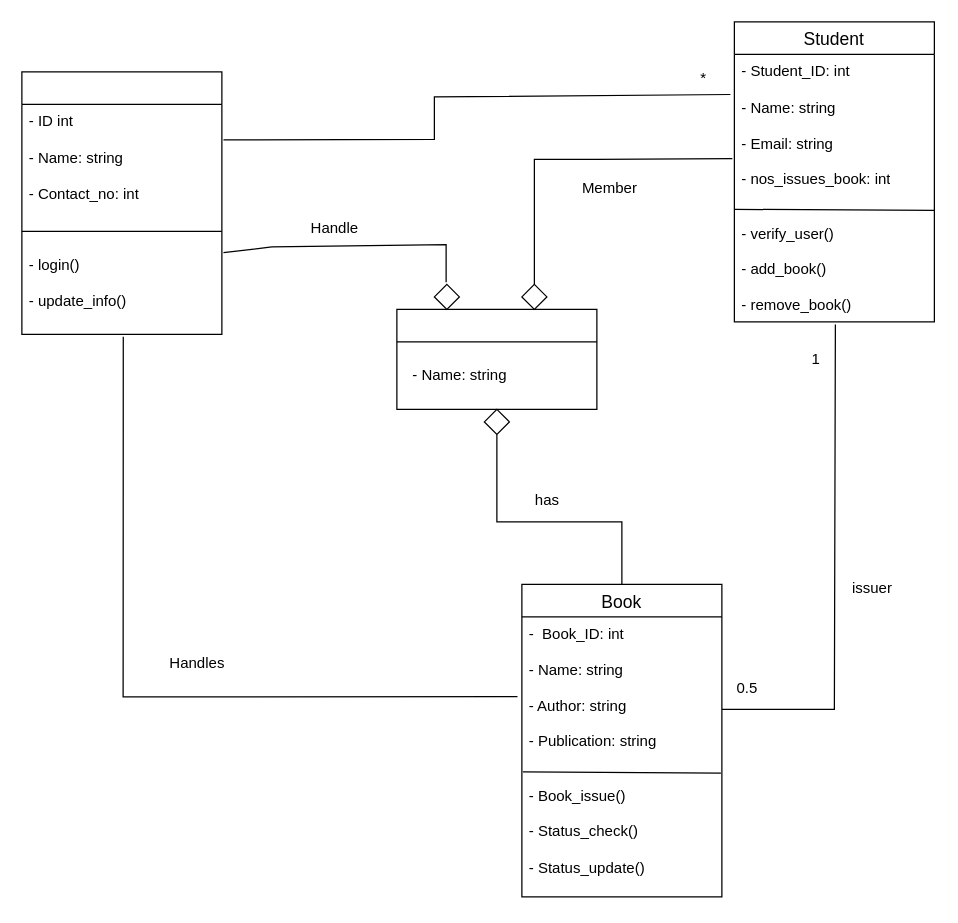
The diagram is 958 pixels wide and 923 high, and some of its shapes have lost their labels. The shapes that lost their labels are listed below. From the top down, each one's box as (x1, y1, x2, y2) in pixels, then its label:
(21, 71, 222, 334): Librarian
(396, 308, 597, 409): Library
